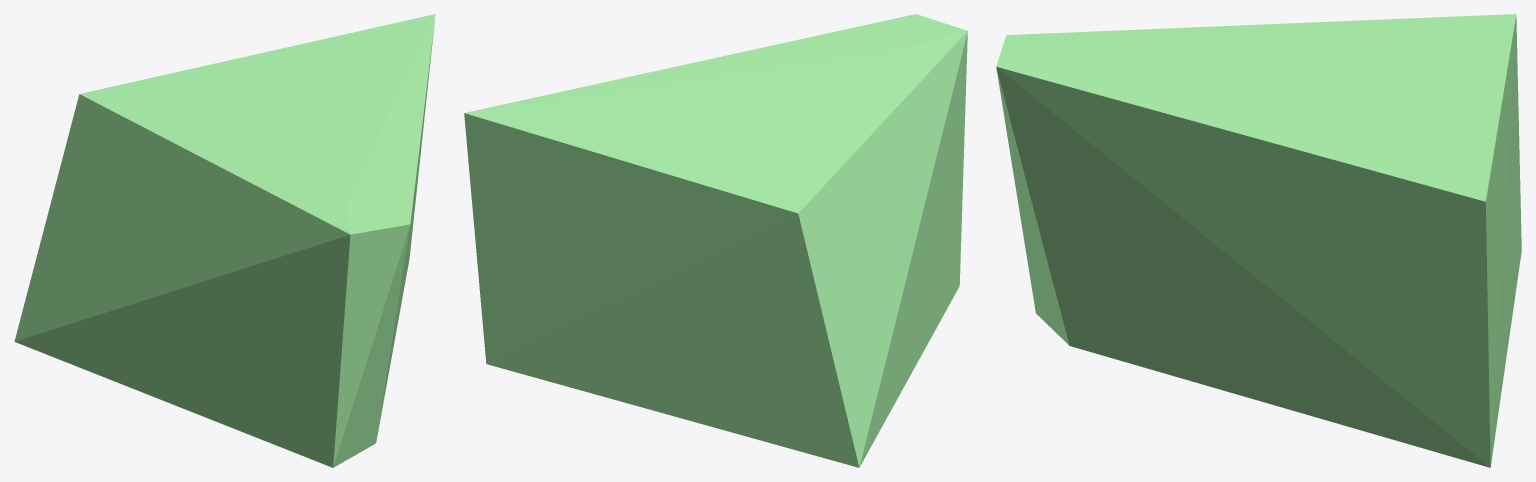
The model's file is dxxx_L2_respondable_PSM1_coll_9.dae.
The picture shows the model from 3 angles, left to right: view 1: azimuth 30°, elevation 25°; view 2: azimuth 150°, elevation 25°; view 3: azimuth 270°, elevation 25°; orthographic projection. The views are drawn at different scales.
Parts seen in each view (by area): view 1: Node_000001D818CBBB90; view 2: Node_000001D818CBBB90; view 3: Node_000001D818CBBB90.
Part boxes in pixels (x1,y1,x2,y2): Node_000001D818CBBB90: [14, 14, 435, 467]; Node_000001D818CBBB90: [464, 14, 967, 467]; Node_000001D818CBBB90: [996, 14, 1521, 467].
Size of the model in its own units: 0.0318 by 0.0181 by 0.0307.
